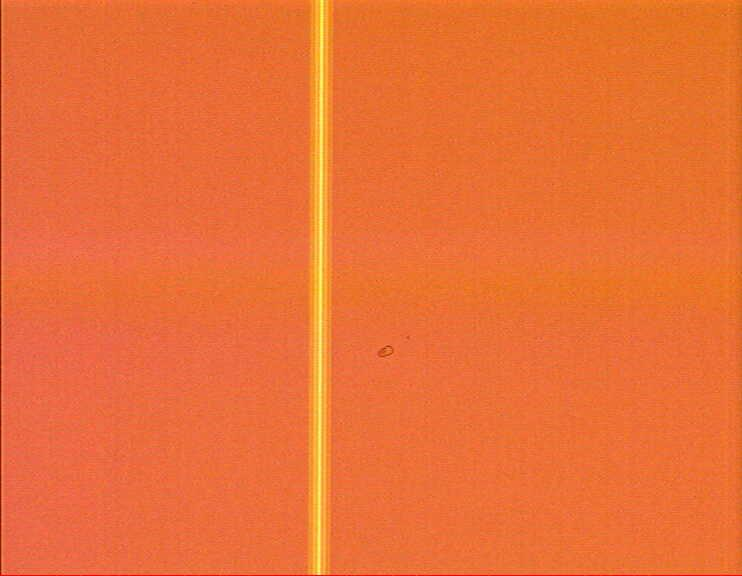PIQ PARTICLE: (377, 332, 417, 364)
